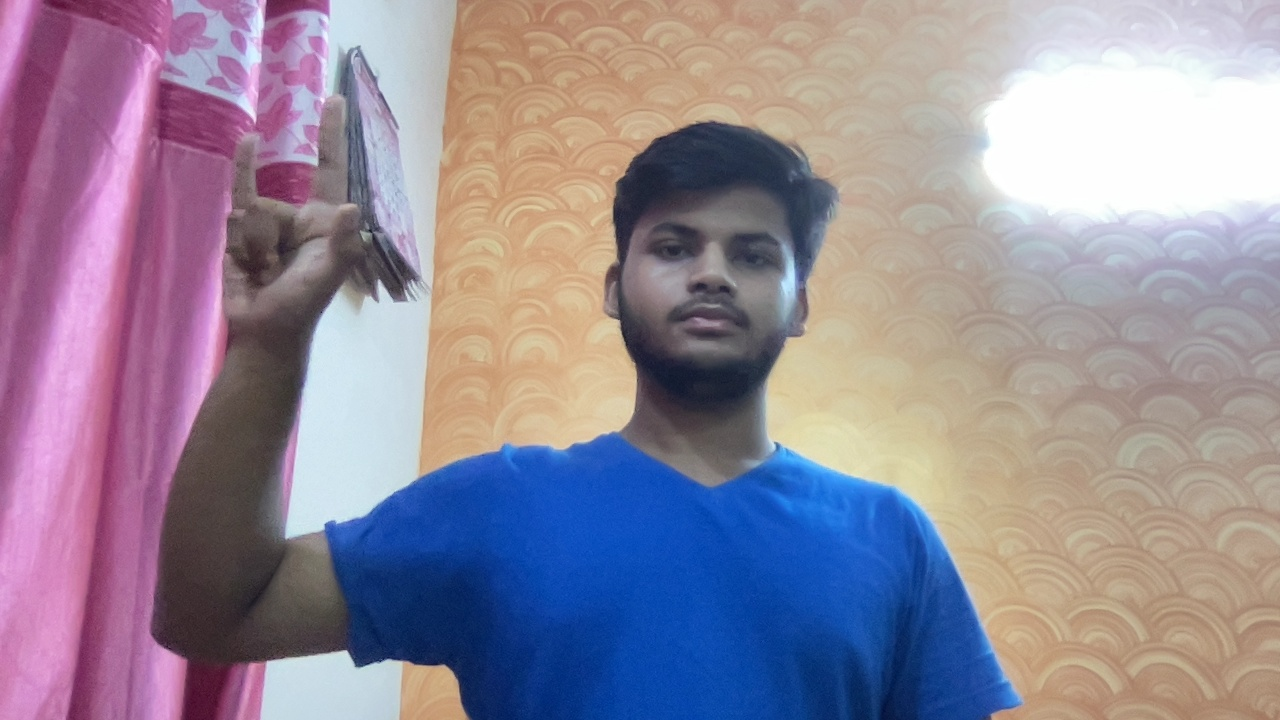iloveyou: (194, 80, 416, 358)
